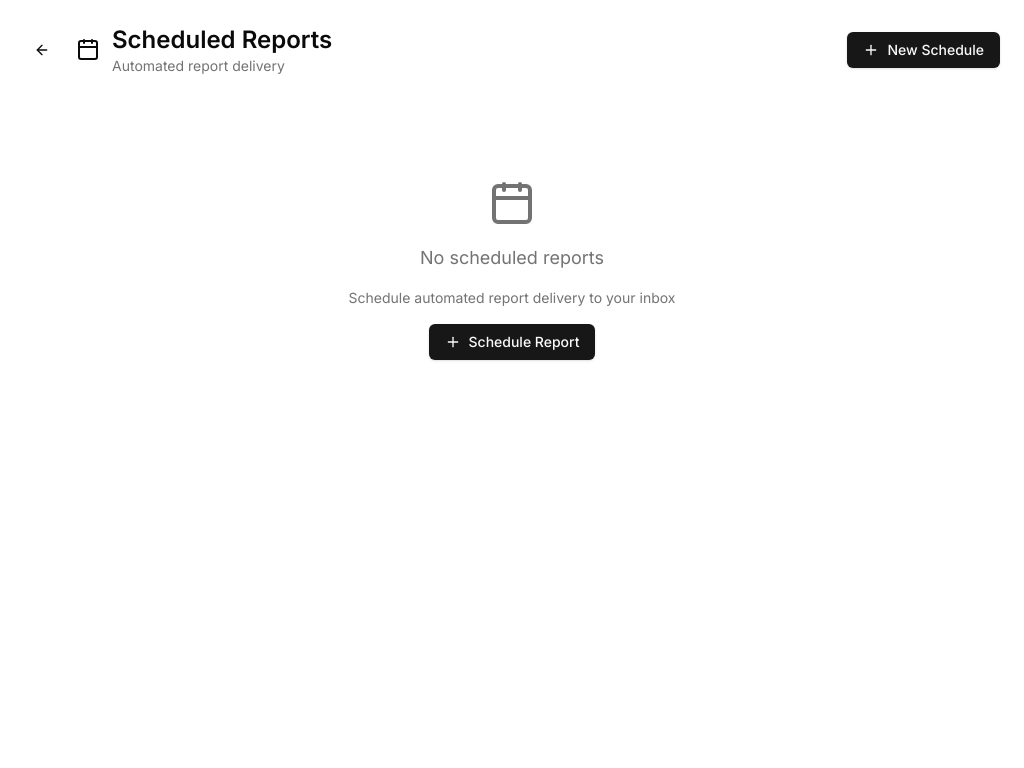
Scenario: ScheduledReportsPage › opens create form
The image size is (1024, 768).
Click the button "New Schedule".
click(924, 50)  # box left=848, top=32, right=1000, bottom=68
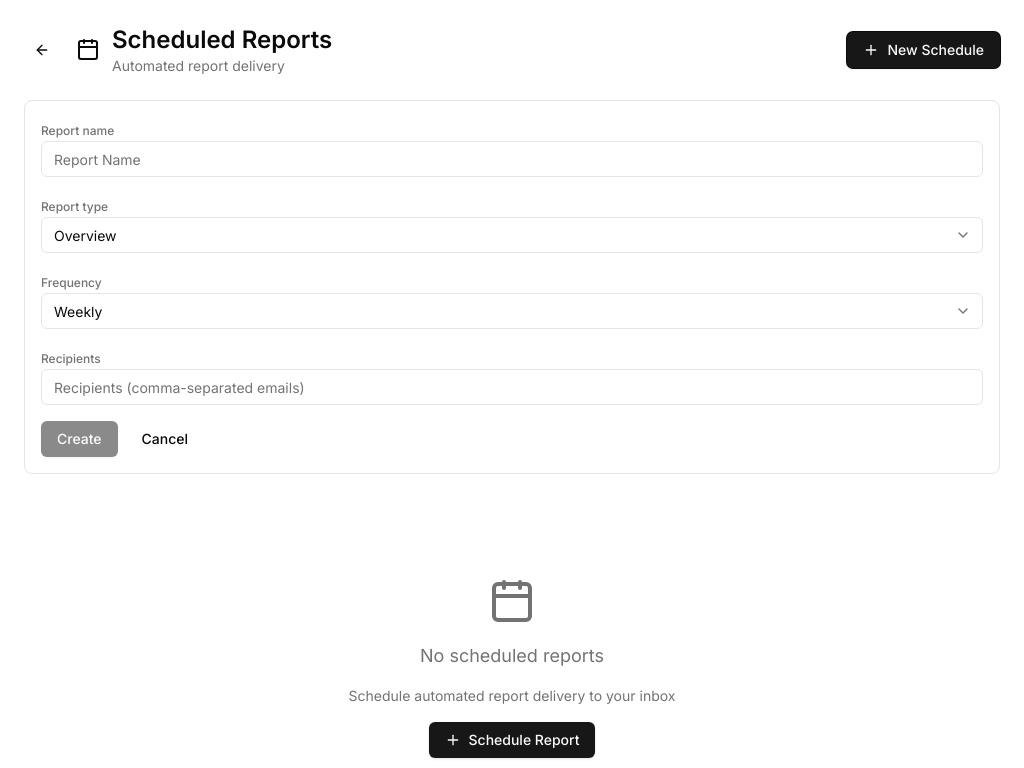
Expected: the field with placeholder "Report name" is shown, left=41, top=141, right=983, bottom=177
